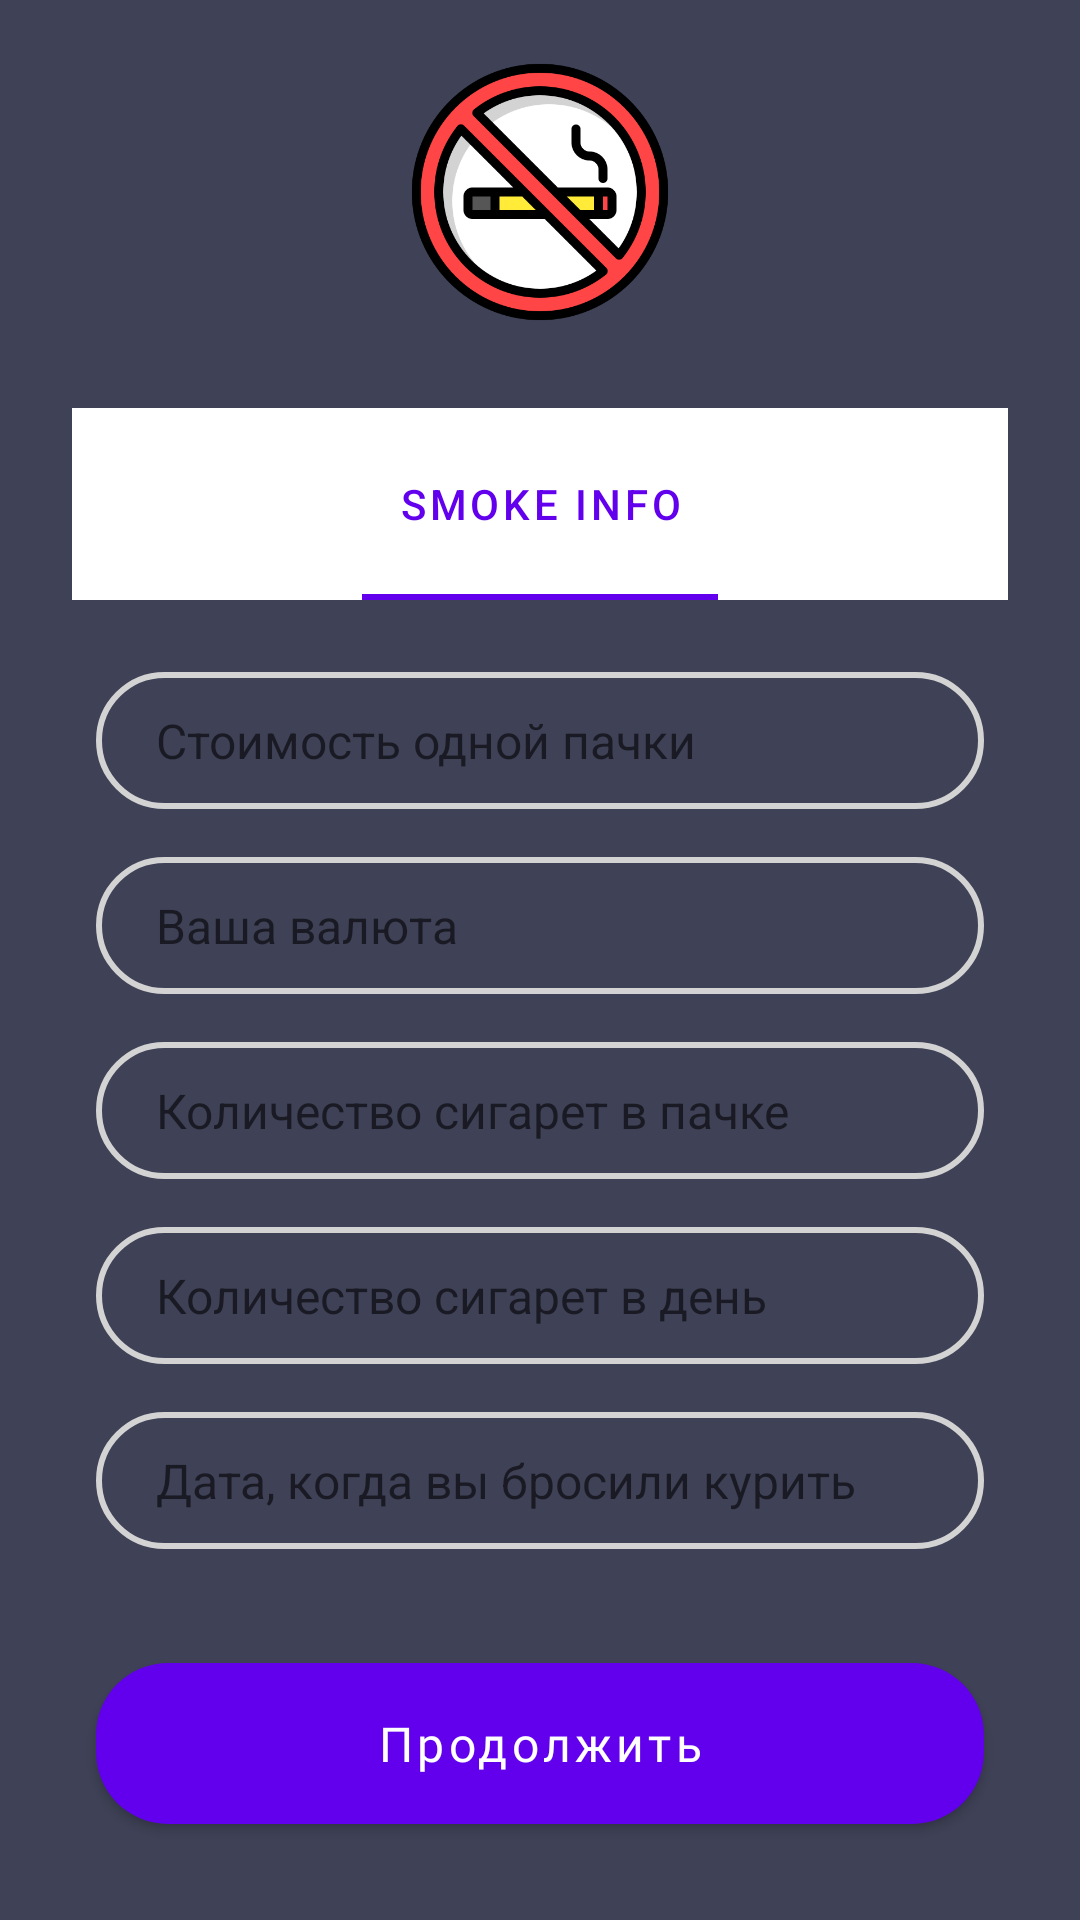

Locate icon controls on the screen. Image size 1080 × 1920, boxes as (x1, y1, x2, y2).
no smoke: (412, 64, 668, 320)
